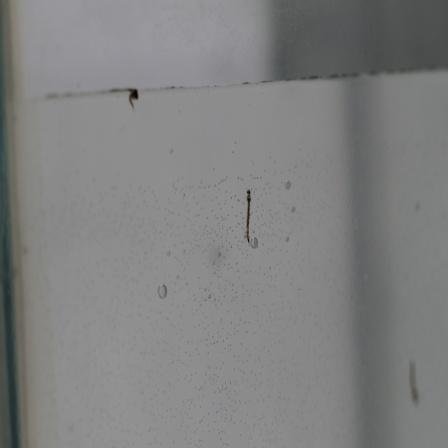Jentik-Nyamuk: (242, 188, 257, 246), (126, 86, 142, 114)
